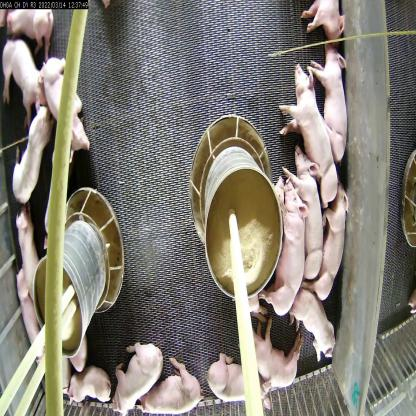Pig: (278, 58, 341, 207), (263, 183, 310, 316), (283, 140, 327, 282), (39, 56, 91, 158), (312, 37, 352, 162), (7, 110, 53, 216), (252, 319, 309, 395), (317, 183, 354, 300), (203, 348, 266, 412), (37, 136, 74, 236), (112, 342, 159, 415), (0, 24, 42, 103), (291, 291, 334, 358), (146, 368, 206, 415), (10, 272, 42, 357), (68, 355, 113, 402), (19, 215, 38, 279)
